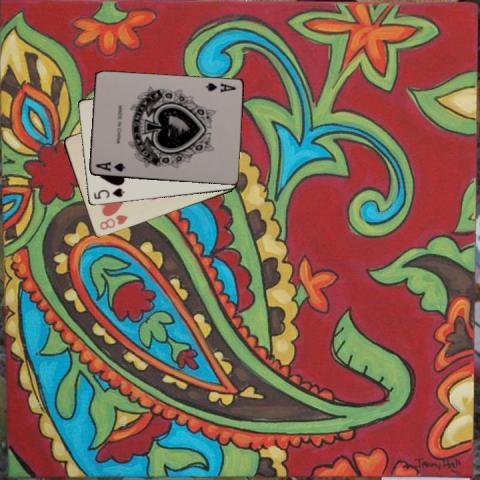5s: (91, 185, 126, 201)
8h: (97, 212, 129, 231)
As: (92, 159, 126, 173), (203, 80, 237, 94)
